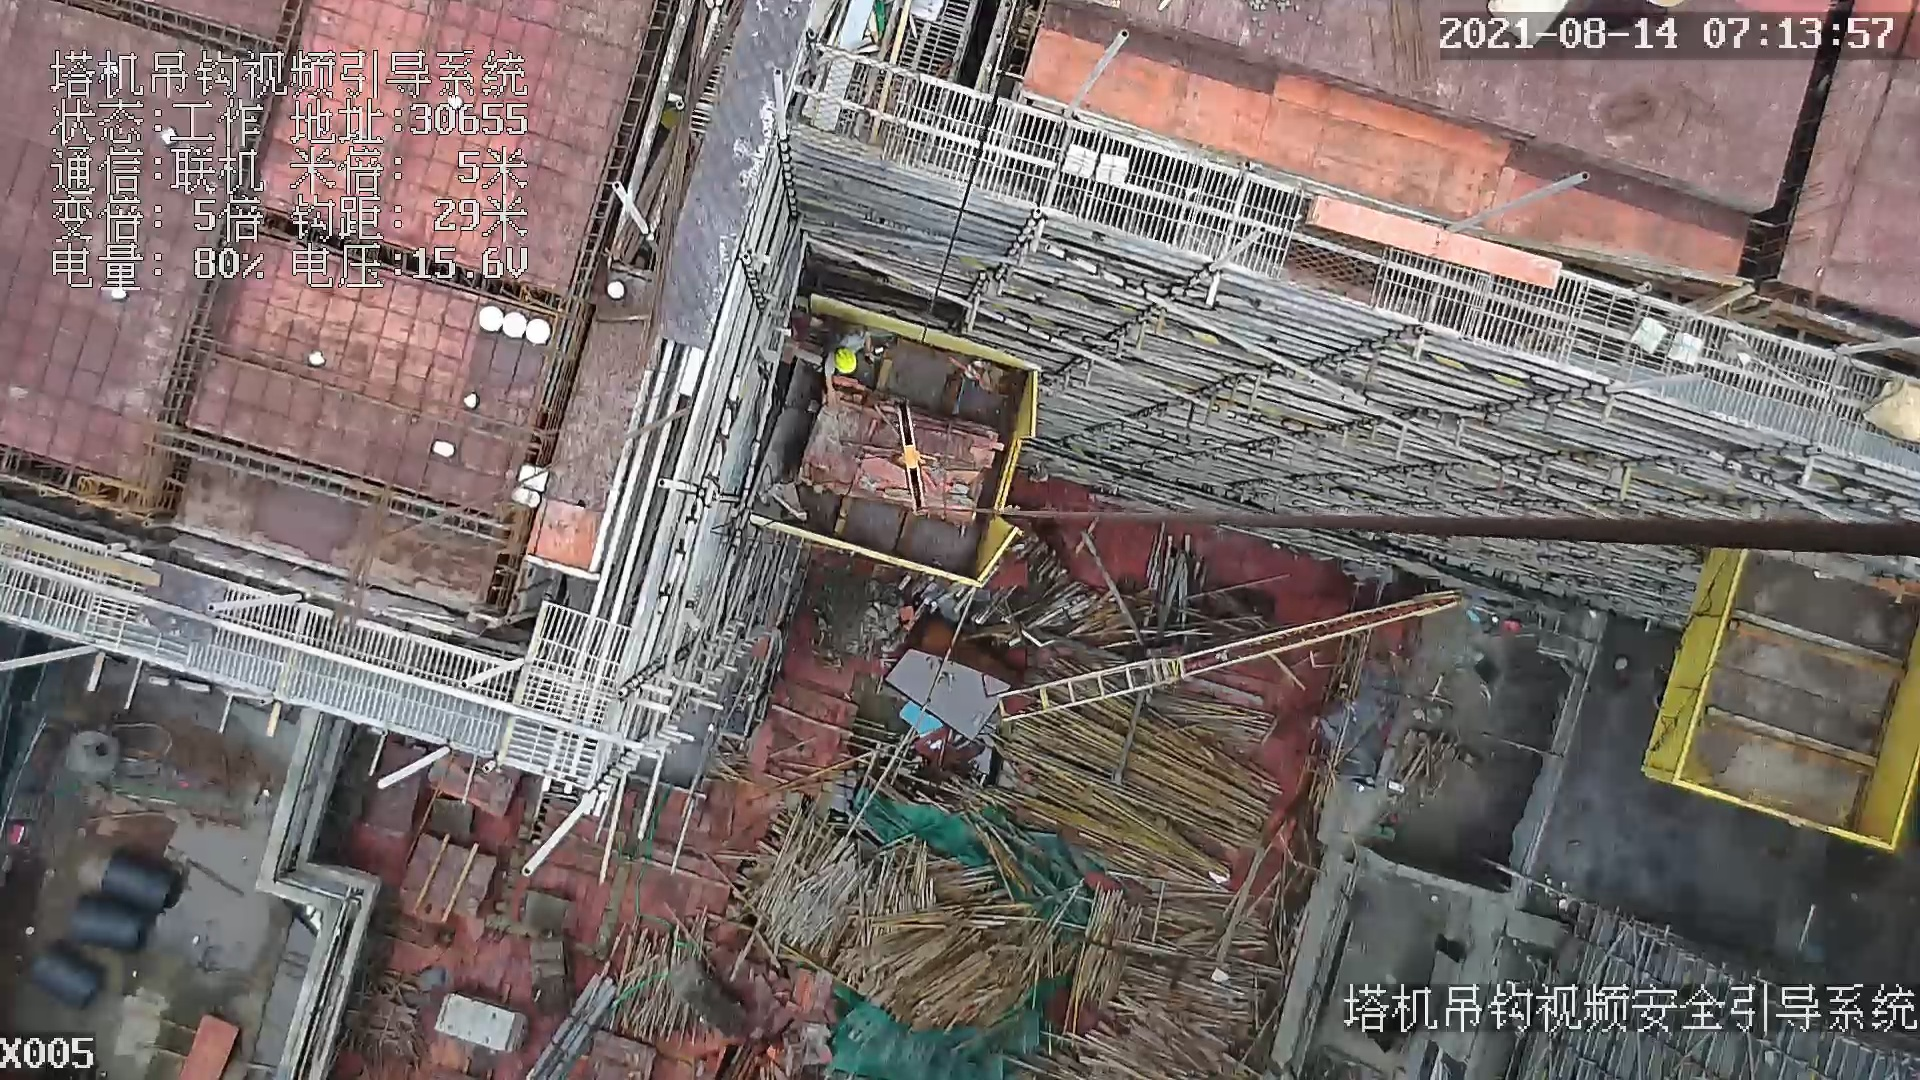helmet: (832, 342, 858, 379)
hook: (887, 397, 936, 517)
person: (819, 323, 882, 401)
